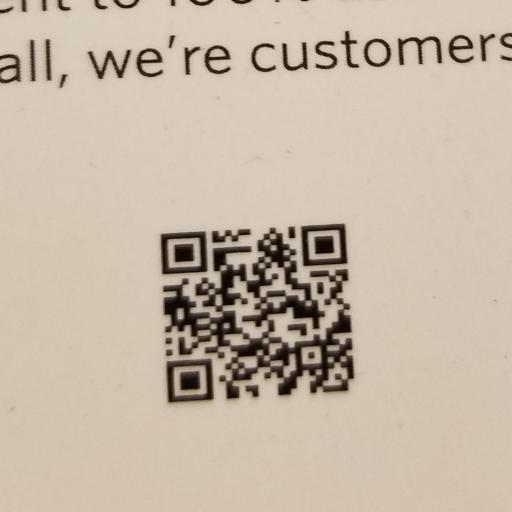QR_CODE: (137, 203, 378, 413)
